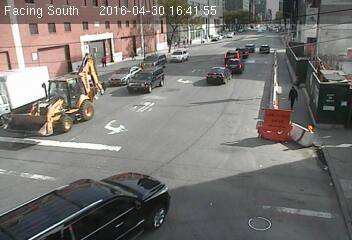neg: (229, 98, 249, 124), (203, 65, 219, 85), (64, 68, 77, 87), (135, 44, 145, 58)
pos: (283, 82, 305, 111), (97, 53, 109, 68)
